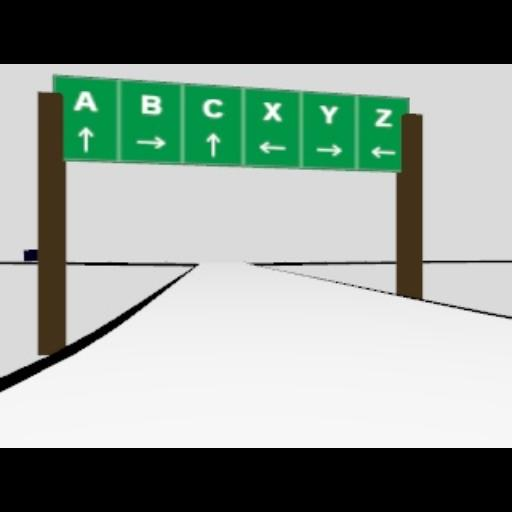A: (72, 90, 98, 110)
B: (140, 93, 162, 115)
C: (202, 98, 224, 118)
Left: (256, 140, 286, 154), (370, 146, 396, 158)
Right: (136, 136, 166, 148), (316, 144, 342, 156)
Straight: (77, 126, 95, 152), (205, 131, 221, 155)
X: (262, 100, 282, 120)
Y: (318, 104, 340, 124)
Z: (372, 108, 392, 126)
